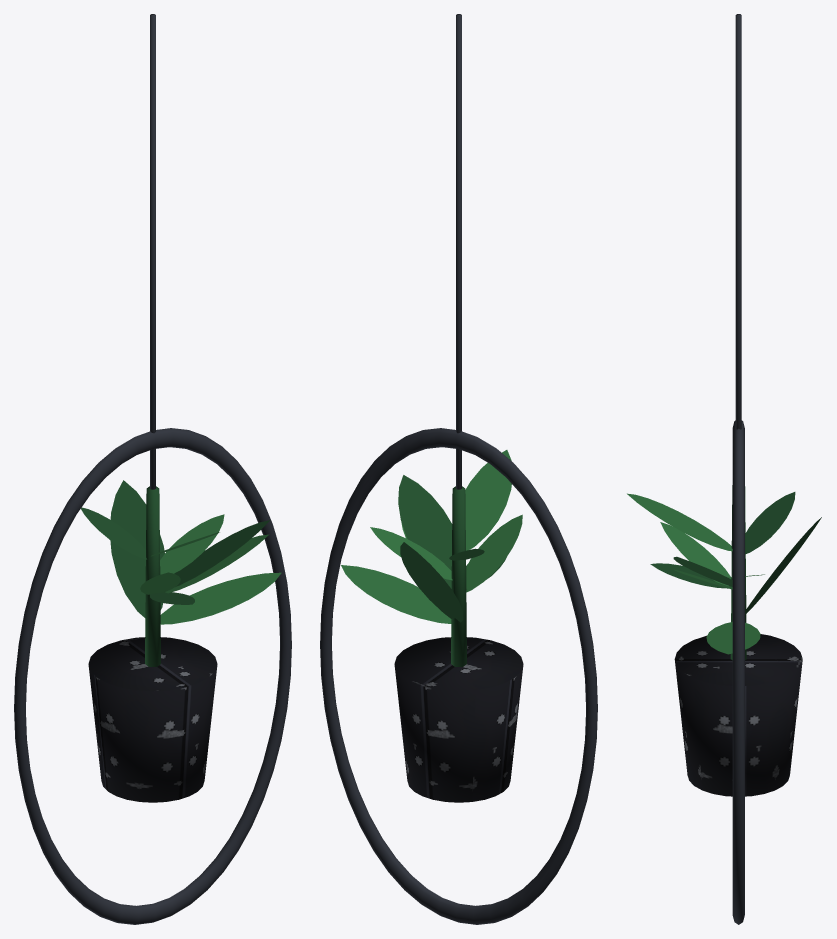
Rendered from Deco_HangingPlanter.001.gltf.
The picture shows the model from 3 angles, left to right: view 1: azimuth 30°, elevation 25°; view 2: azimuth 150°, elevation 25°; view 3: azimuth 270°, elevation 25°; orthographic projection.
Visible parts, largest first — view 1: Deco_HangingPlanter.001; view 2: Deco_HangingPlanter.001; view 3: Deco_HangingPlanter.001.
Boxes of the visible parts, x1,y1,x2,y2 form: Deco_HangingPlanter.001: (14,14,291,924); Deco_HangingPlanter.001: (320,14,597,924); Deco_HangingPlanter.001: (627,14,821,924).
Size of the model in its own units: 0.416 by 1.3 by 0.2574.
Materials: 5 (1 with a texture image).
